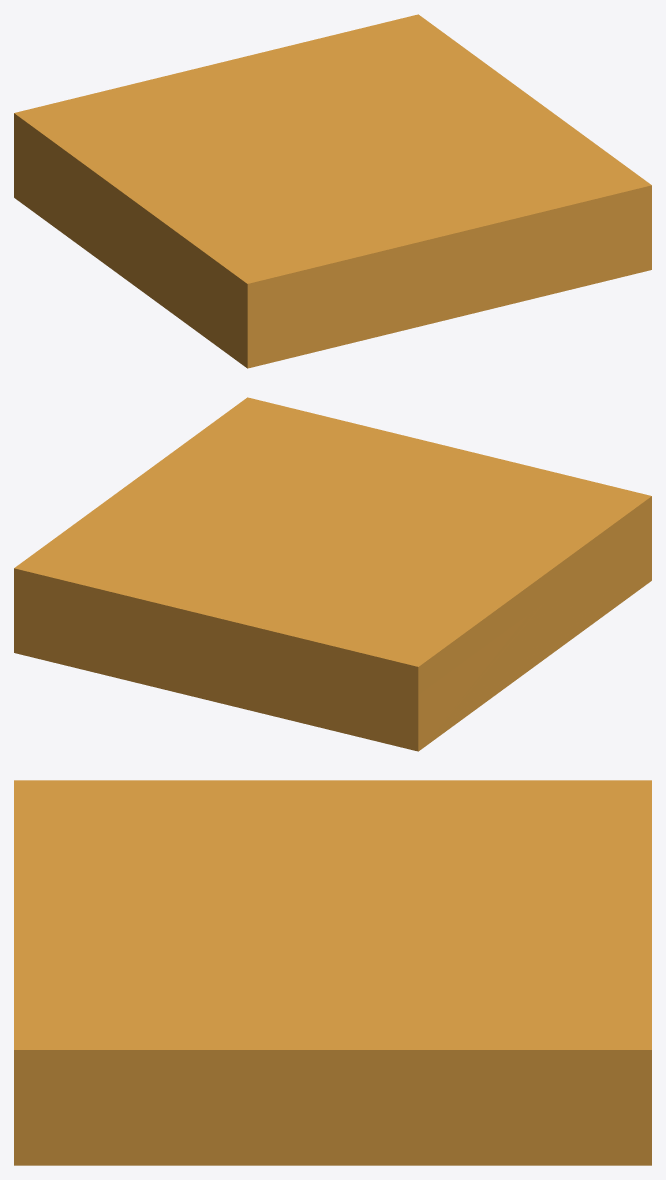
File: tile-park.glb
The picture shows the model from 3 angles, top to bottom: view 1: azimuth 30°, elevation 25°; view 2: azimuth 150°, elevation 25°; view 3: azimuth 270°, elevation 25°; orthographic projection. The views are drawn at different scales.
Visible parts, largest first — view 1: tile-park; view 2: tile-park; view 3: tile-park.
Boxes of the visible parts, box(x1,y1,x2,y2) form: tile-park: box(14, 14, 651, 368); tile-park: box(14, 397, 651, 751); tile-park: box(14, 780, 651, 1165).
Bounding box in the file's own units: 30 × 6 × 30.
